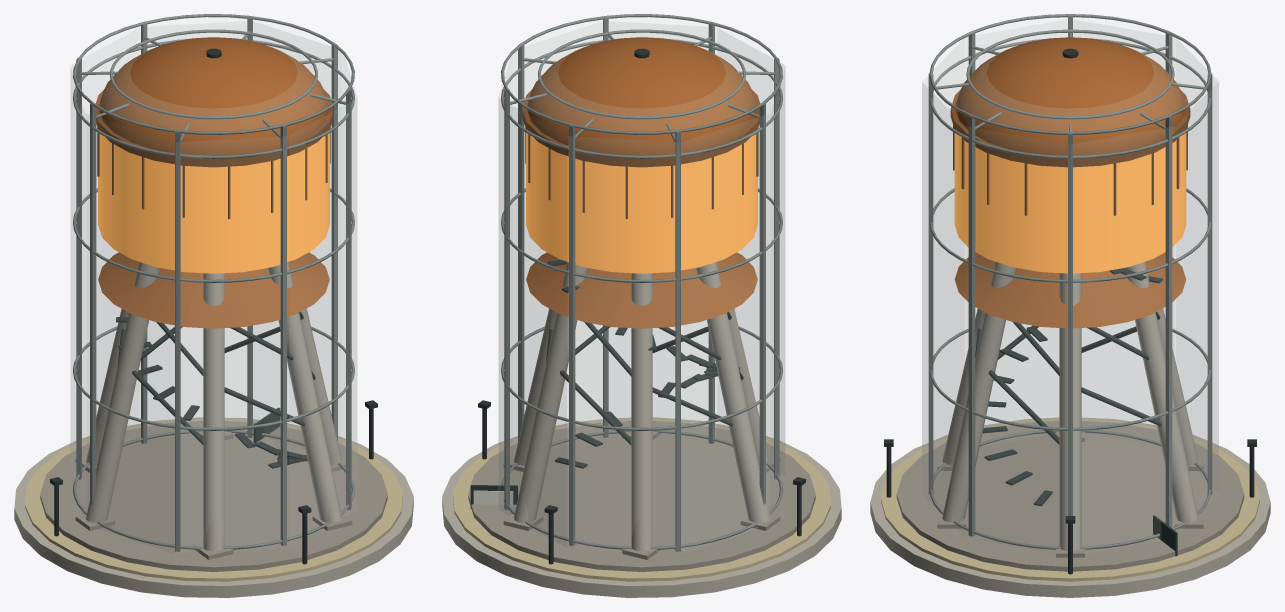
3 views of the same model, side by side, from view 1: azimuth 30°, elevation 25°; view 2: azimuth 150°, elevation 25°; view 3: azimuth 270°, elevation 25° (orthographic).
Size of the model in its own units: 0.9073 by 1.15 by 0.9073.
